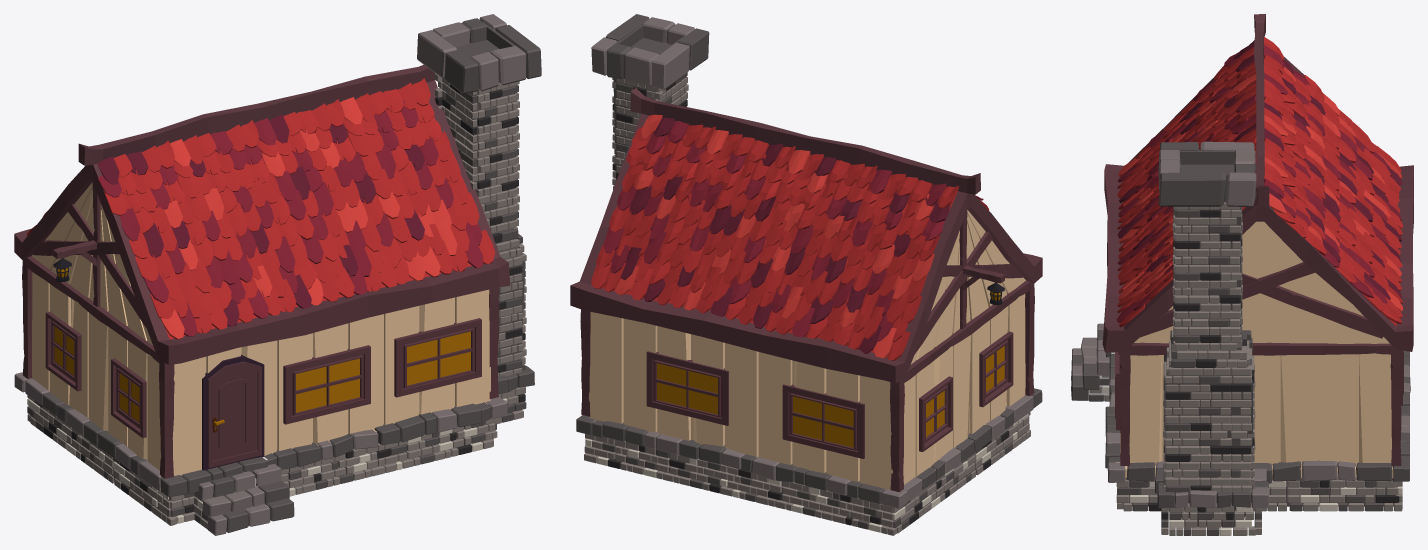
Rendered from casa-madeira3.fbx.
3 renders of one model, left to right at view 1: azimuth 30°, elevation 25°; view 2: azimuth 150°, elevation 25°; view 3: azimuth 270°, elevation 25°, orthographic. The views are drawn at different scales.
Parts seen in each view (by area): view 1: Cube.294, Cube.024; view 2: Cube.294; view 3: Cube.294.
Part boxes in pixels (x1=…): Cube.294: x1=14, y1=14, x2=541, y2=535; Cube.024: x1=207, y1=361, x2=261, y2=468; Cube.294: x1=570, y1=14, x2=1042, y2=535; Cube.294: x1=1071, y1=14, x2=1413, y2=535.
Bounding box in the file's own units: 632 × 504 × 430.
